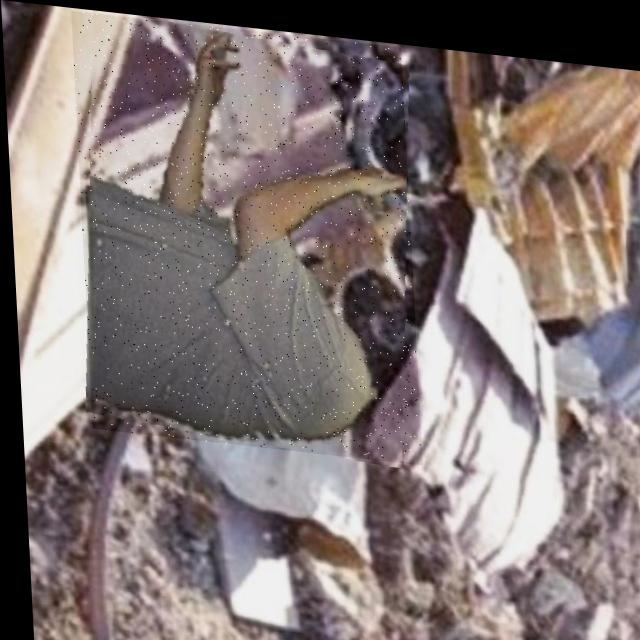Person in Rubble: (70, 9, 417, 456)
